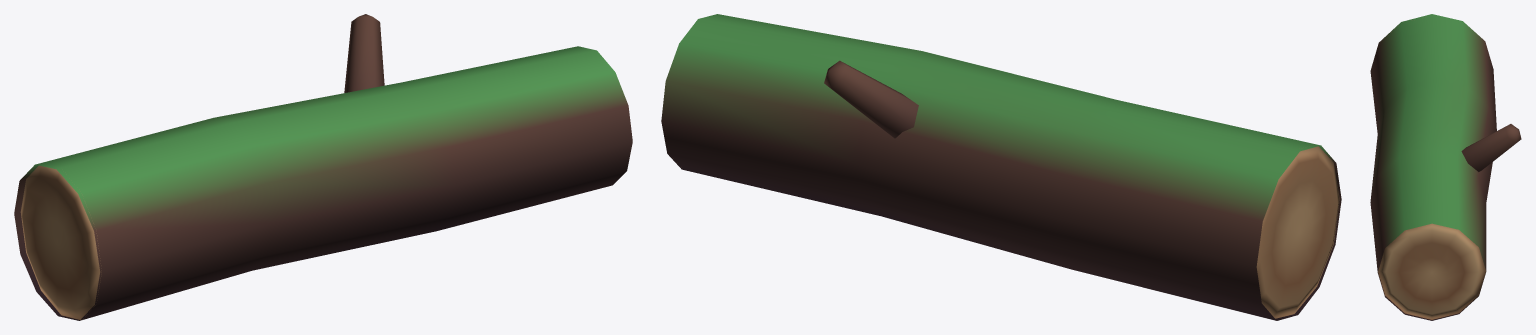
The model's file is log.glb.
3 views of the same model, side by side, from view 1: azimuth 30°, elevation 25°; view 2: azimuth 150°, elevation 25°; view 3: azimuth 270°, elevation 25° (orthographic). The views are drawn at different scales.
Parts seen in each view (by area): view 1: log_body; view 2: log_body; view 3: log_body.
Part boxes in pixels (left/top/right/bottom): log_body: left=14, top=14, right=632, bottom=320; log_body: left=661, top=14, right=1341, bottom=320; log_body: left=1370, top=14, right=1521, bottom=320.
Size of the model in its own units: 2.62 by 0.8094 by 0.8344.
